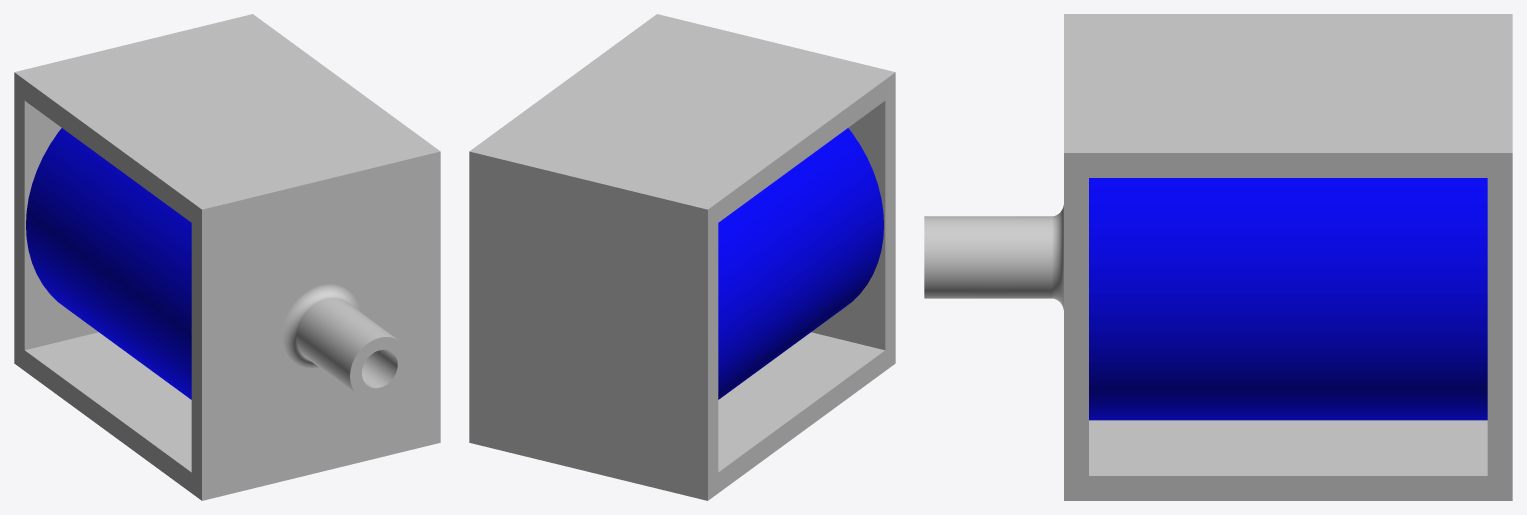
Rendered from Electrovanne.gltf.
3 renders of one model, left to right at view 1: azimuth 30°, elevation 25°; view 2: azimuth 150°, elevation 25°; view 3: azimuth 270°, elevation 25°, orthographic. The views are drawn at different scales.
Visible parts, largest first — view 1: EV; view 2: EV; view 3: EV.
Part boxes in pixels (box(x1,y1,x2,y2)): EV: box(14, 14, 440, 500); EV: box(469, 14, 895, 500); EV: box(924, 14, 1512, 500).
Bounding box in the file's own units: 0.0132 × 0.0154 × 0.0236.
